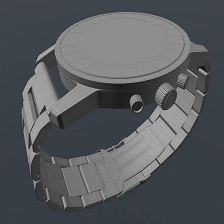Watch: (15, 6, 211, 209)
